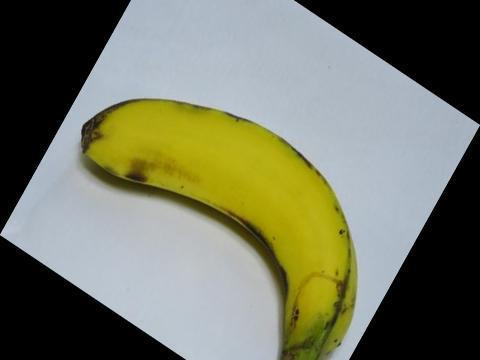freshripe: (66, 81, 375, 359)
